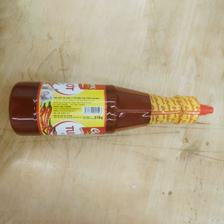Tuong: (7, 81, 216, 136)
